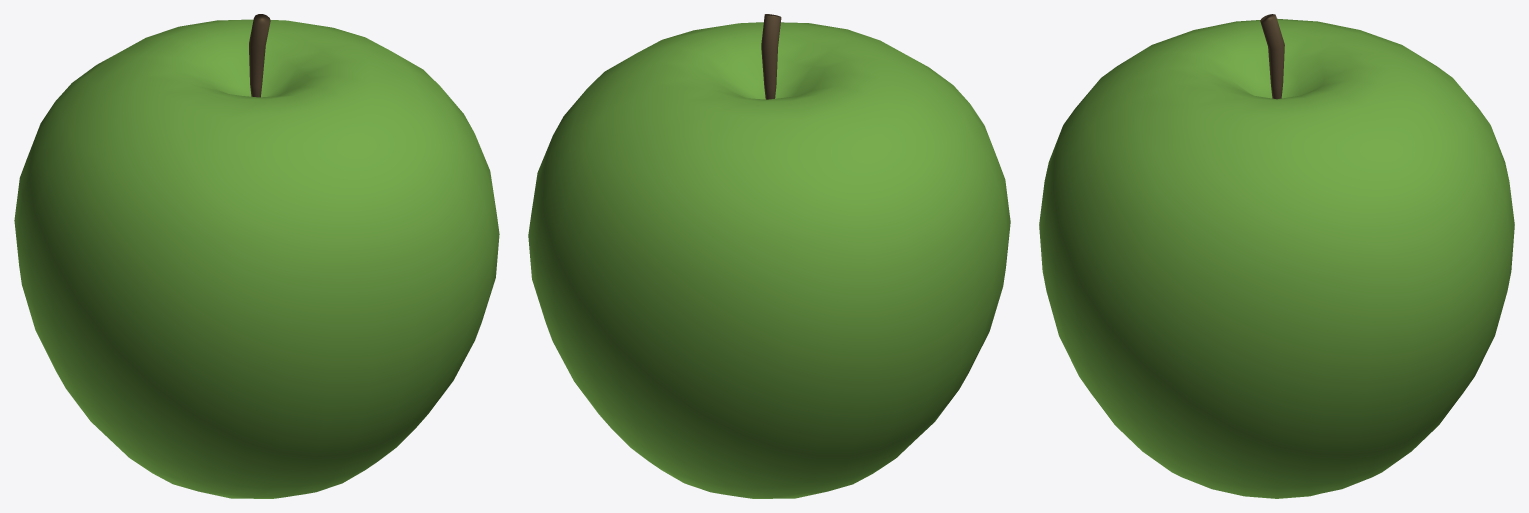
Rendered from Apple.glb.
3 renders of one model, left to right at view 1: azimuth 30°, elevation 25°; view 2: azimuth 150°, elevation 25°; view 3: azimuth 270°, elevation 25°, orthographic.
Parts seen in each view (by area): view 1: Apple, Stalk; view 2: Apple, Stalk; view 3: Apple, Stalk.
Part boxes in pixels (x1,y1,x2,y2): Apple: (14, 19, 499, 498); Stalk: (249, 14, 270, 97); Apple: (528, 22, 1010, 498); Stalk: (761, 14, 781, 99); Apple: (1039, 18, 1514, 498); Stalk: (1260, 14, 1284, 99).
Size of the model in its own units: 0.9031 by 0.9326 by 0.9032.
